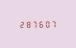eight: (24, 20, 30, 28)
seven: (53, 19, 59, 27), (32, 20, 38, 27)
six: (39, 19, 45, 27)
two: (17, 20, 23, 28)
zero: (46, 19, 52, 27)
